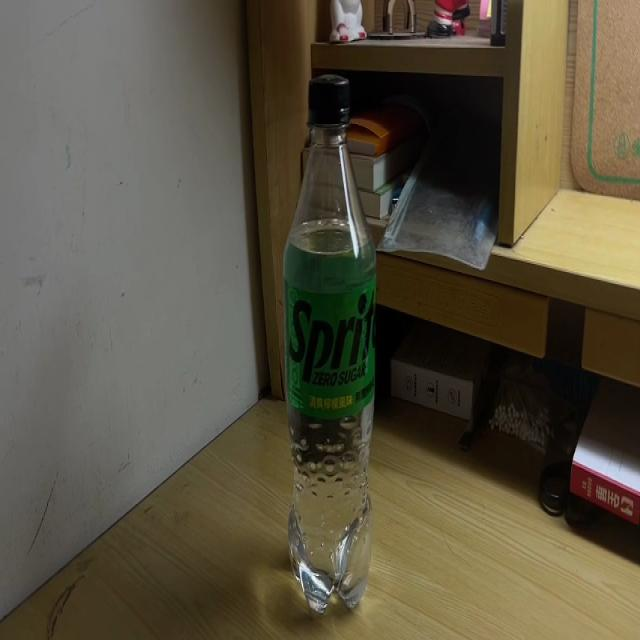Sprite: (282, 76, 377, 618)
